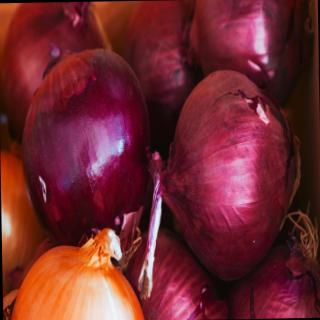Bawang Merah: (137, 68, 305, 289), (20, 46, 154, 250), (9, 226, 146, 320)
